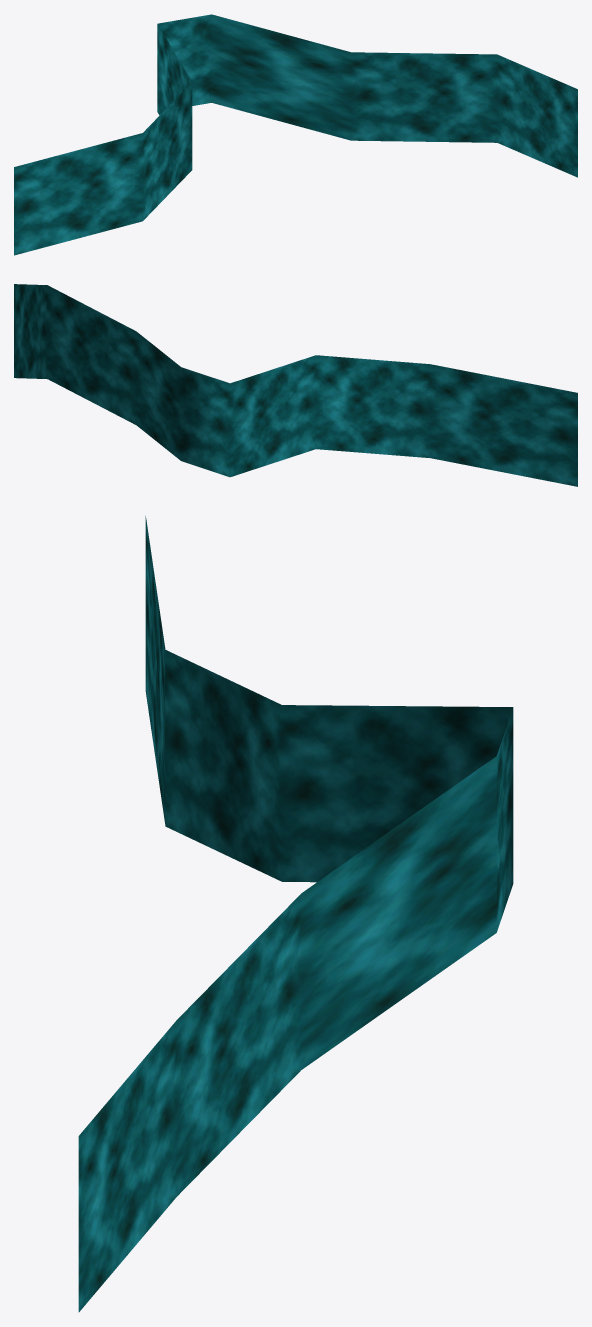
File: MIRKWOOD_FOGE.fbx
3 views of the same model, one above another, from view 1: azimuth 30°, elevation 25°; view 2: azimuth 150°, elevation 25°; view 3: azimuth 270°, elevation 25° (orthographic). The views are drawn at different scales.
Parts seen in each view (by area): view 1: MIRKWOOD_FOGE; view 2: MIRKWOOD_FOGE; view 3: MIRKWOOD_FOGE.
Part boxes in pixels (x1=…): MIRKWOOD_FOGE: x1=14, y1=14, x2=577, y2=255; MIRKWOOD_FOGE: x1=14, y1=284, x2=577, y2=486; MIRKWOOD_FOGE: x1=78, y1=516, x2=513, y2=1312.
Size of the model in its own units: 536884 by 141292 by 184597.
Materials: 1 (1 with a texture image).
